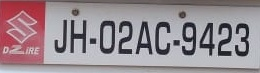character: (69, 19, 88, 54), (134, 20, 153, 55), (153, 20, 172, 55), (198, 21, 216, 56), (181, 20, 198, 57), (98, 20, 116, 54), (116, 19, 133, 54), (217, 21, 233, 56), (234, 22, 250, 57), (53, 18, 68, 54)
